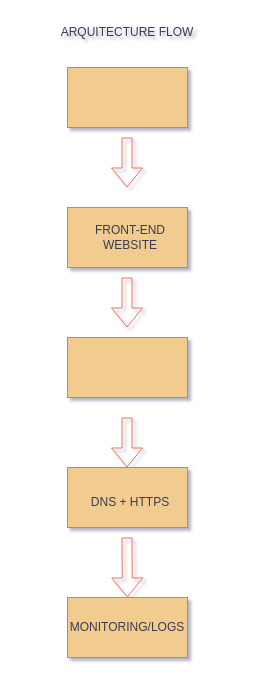
Some shapes in this 260 by 681 pixel diagram are drawn without their labels. Each missing label, with the centre of its shape:
"DATABASE" goes at (127,367).
"USER/VISITOR" goes at (127,97).
